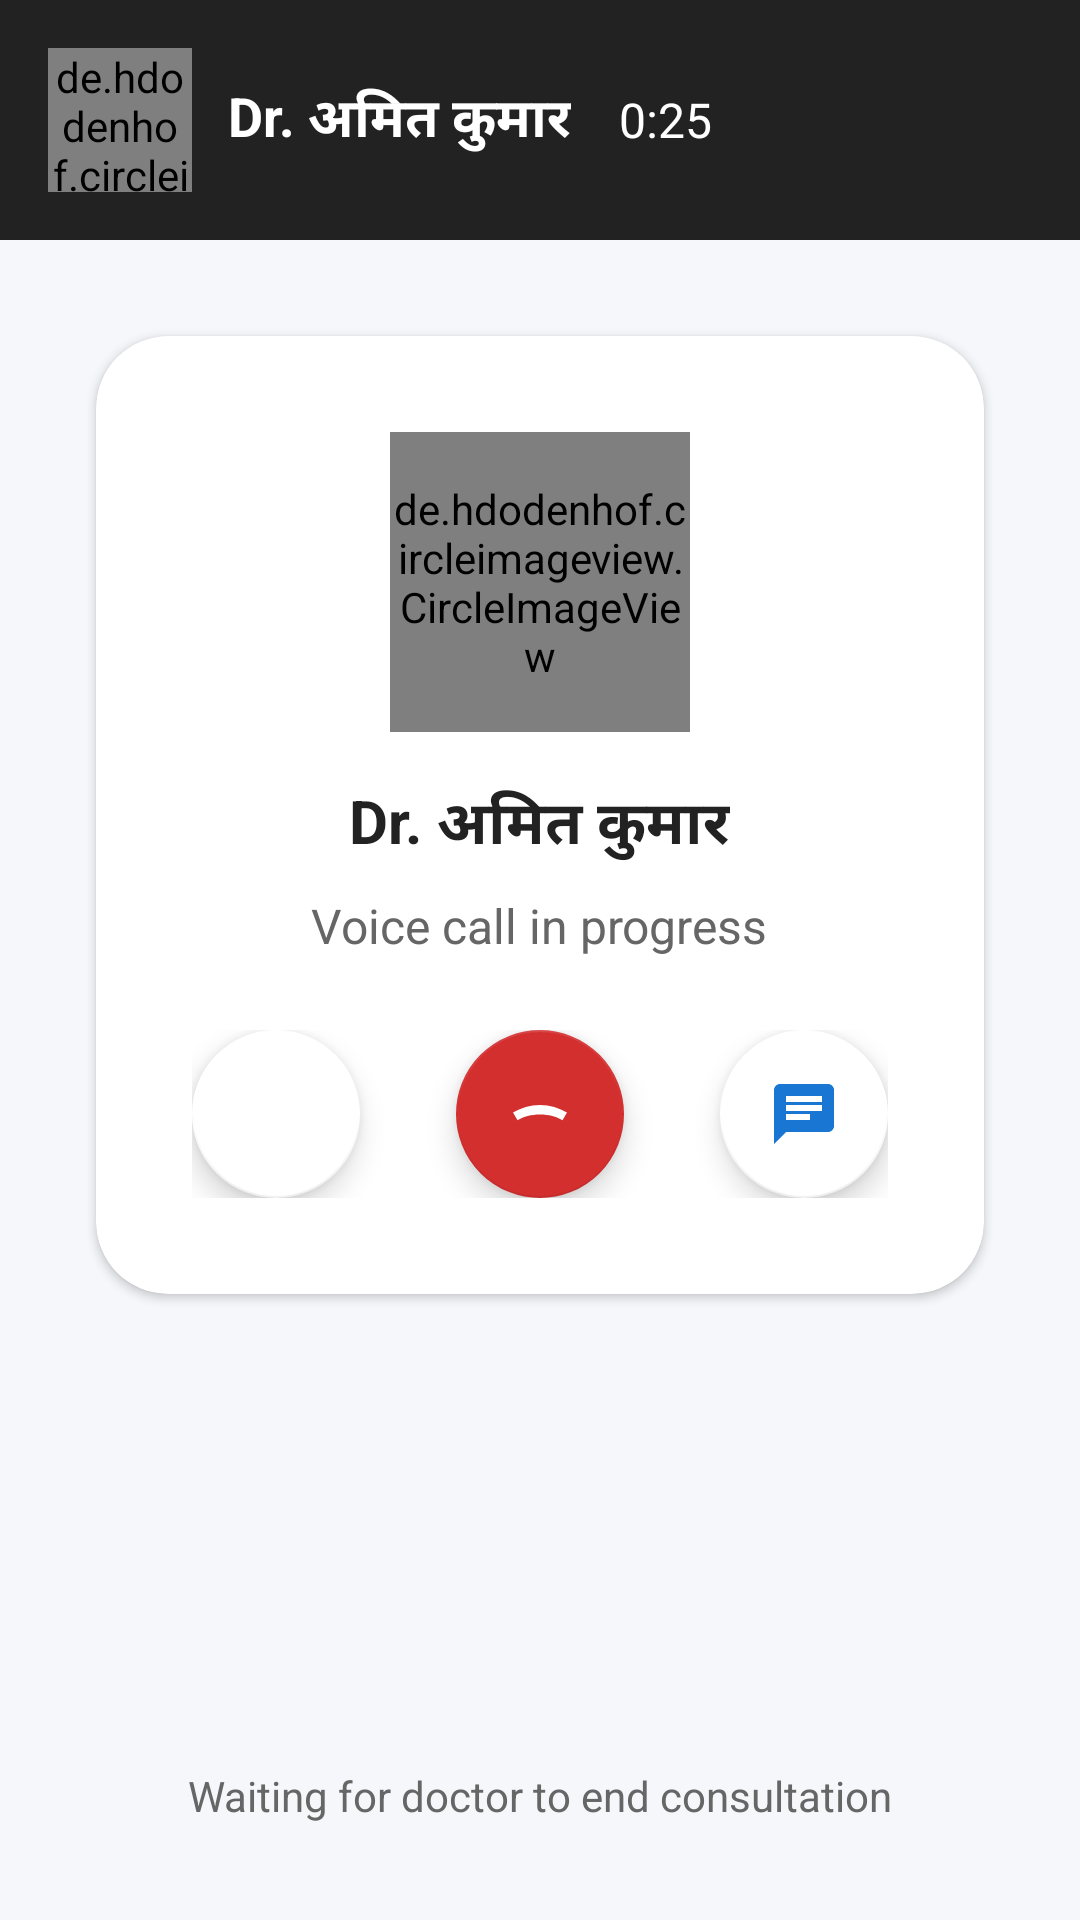

Named icons in this screenshot (1080*1920) and their centers, (x,y):
call end: (540,1114)
